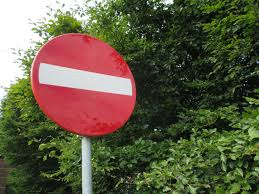No entry: (31, 32, 137, 136)
